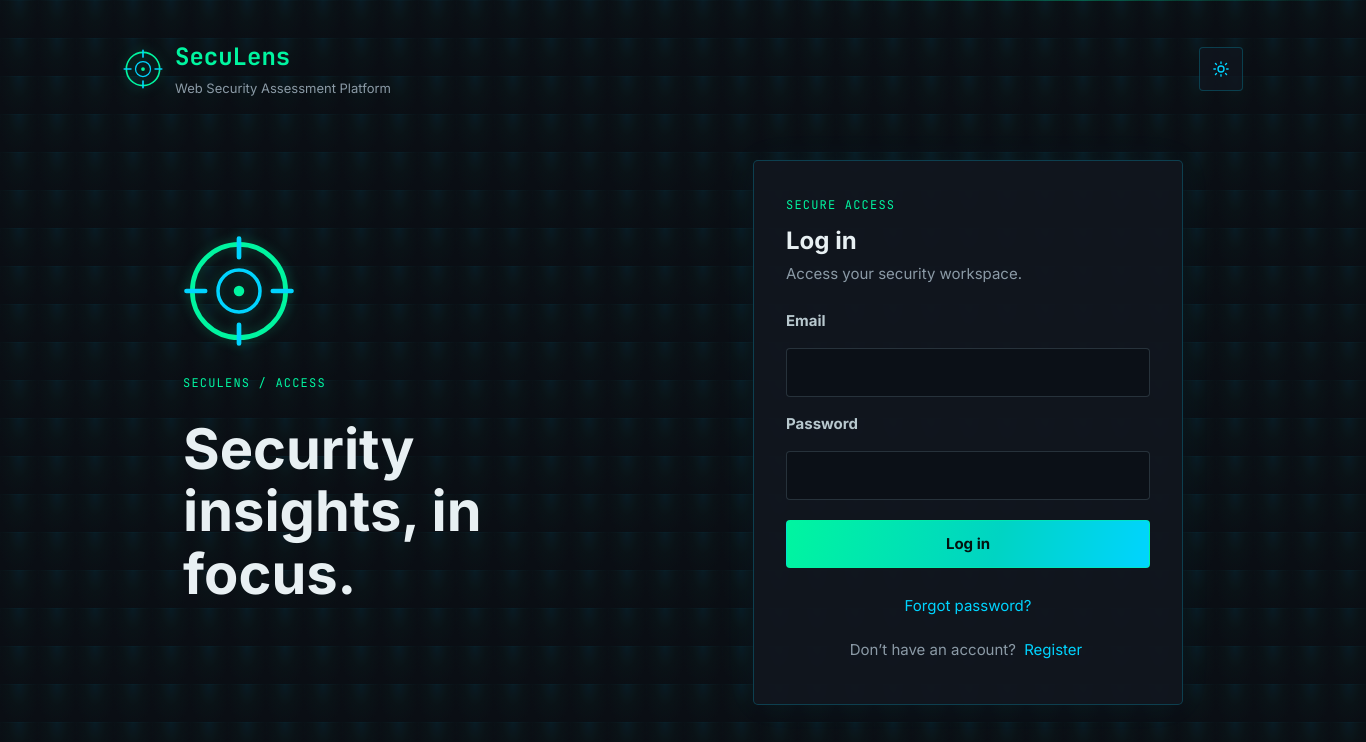
Test: switches to registration and validates the password length
Click the button "Register" at (1053, 650), box [1020,628,1086,672]
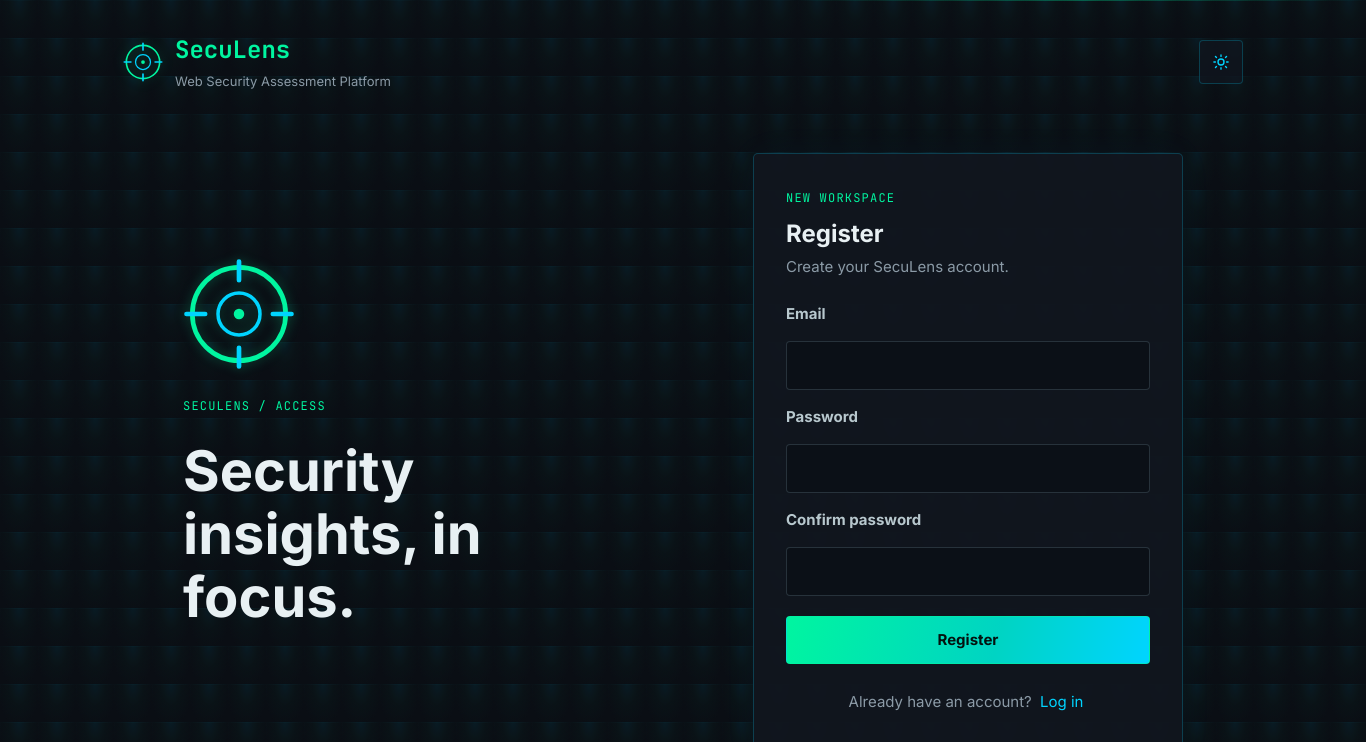
Type "new@example.com" into the field labelled "Email" at (968, 366), box [786,341,1150,390]
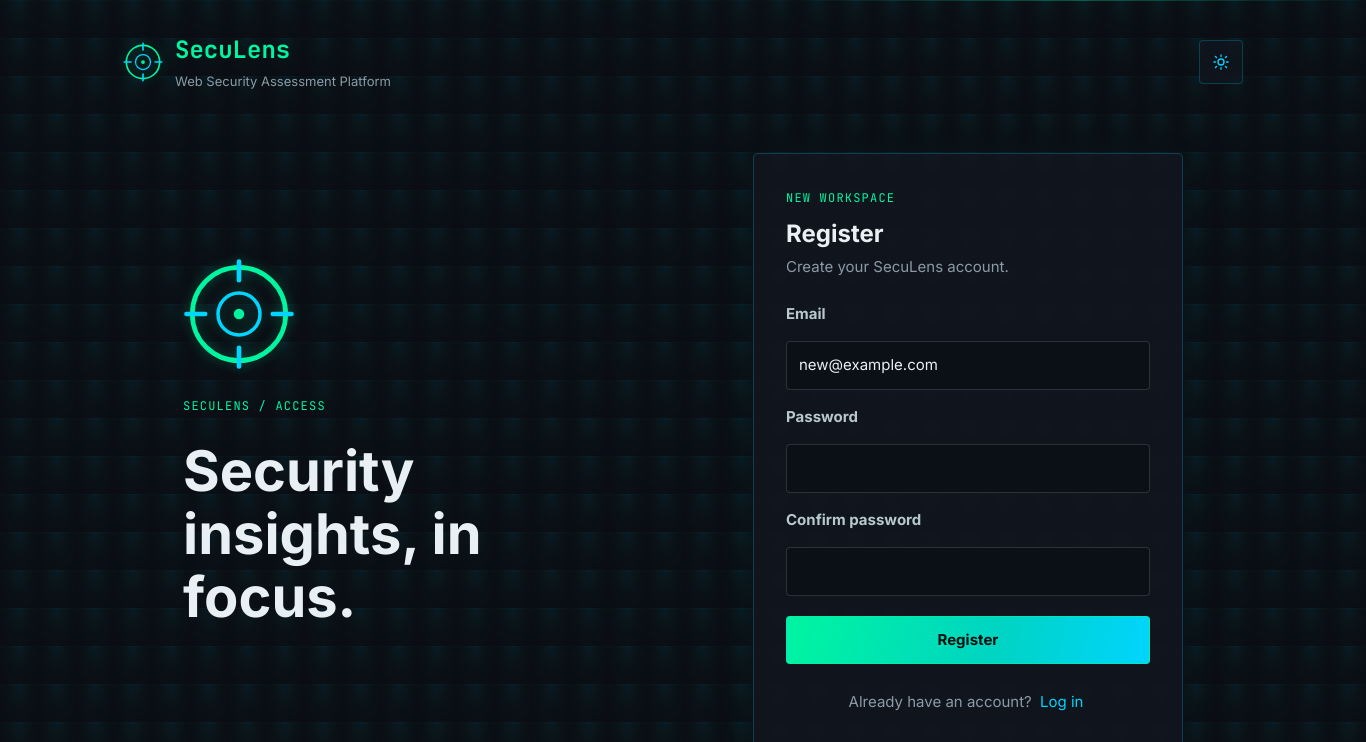
Type "short" into the password field labelled "Password" at (968, 469), box [786,444,1150,493]
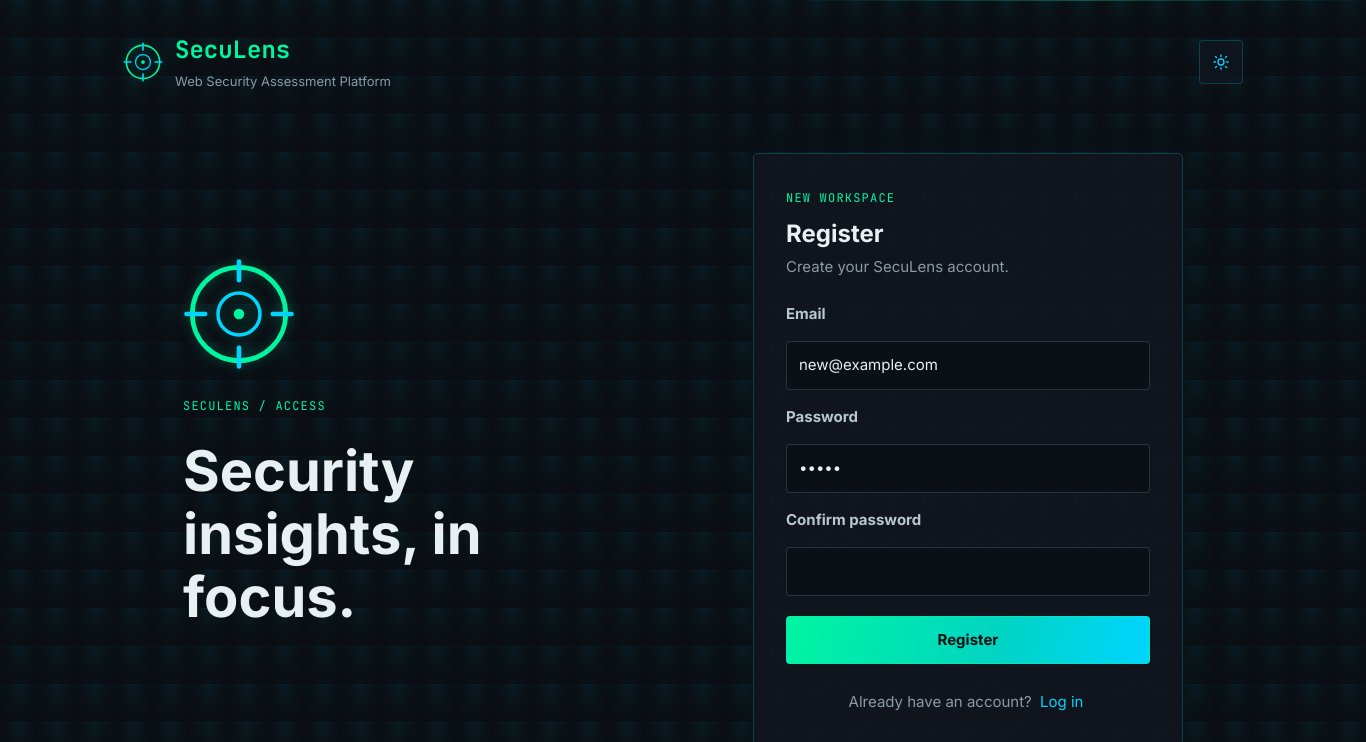
Type "short" into the password field labelled "Confirm password" at (968, 572), box [786,547,1150,596]
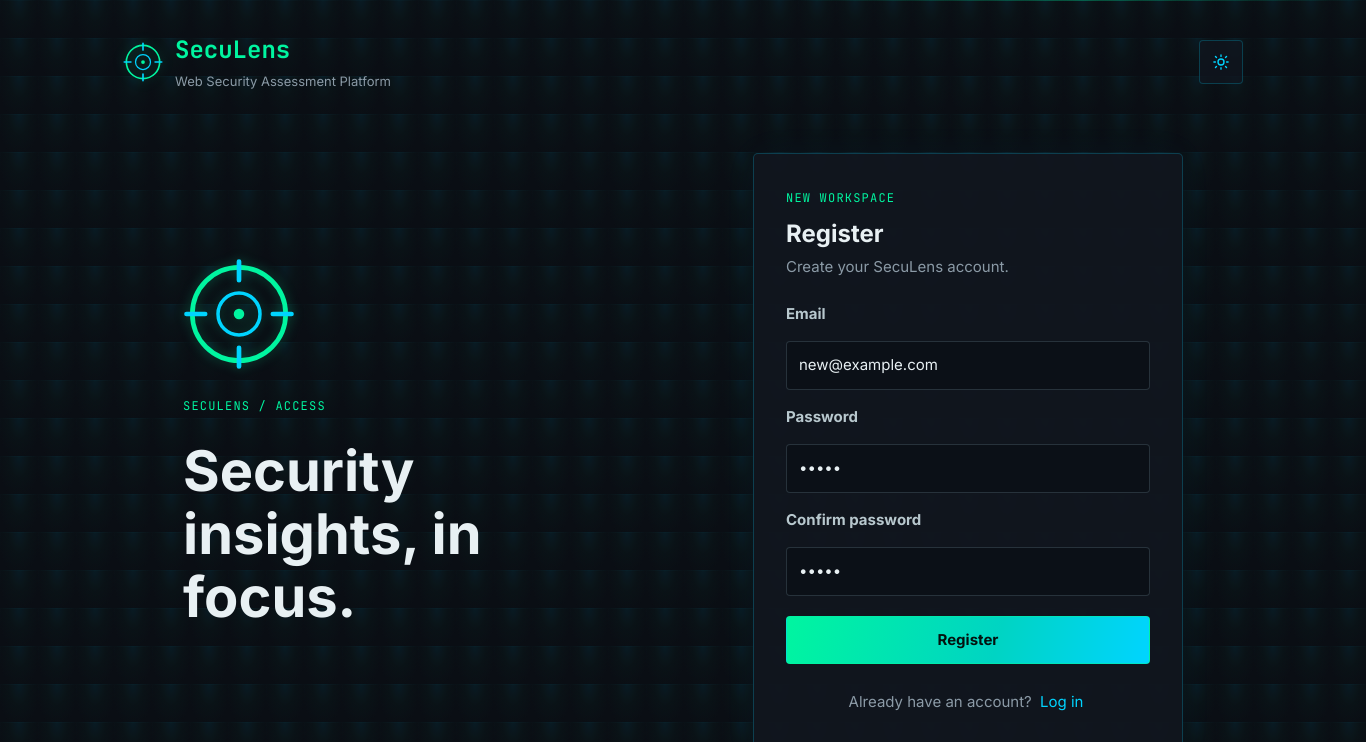
Click the button "Register" at (968, 640), box [786,616,1150,664]
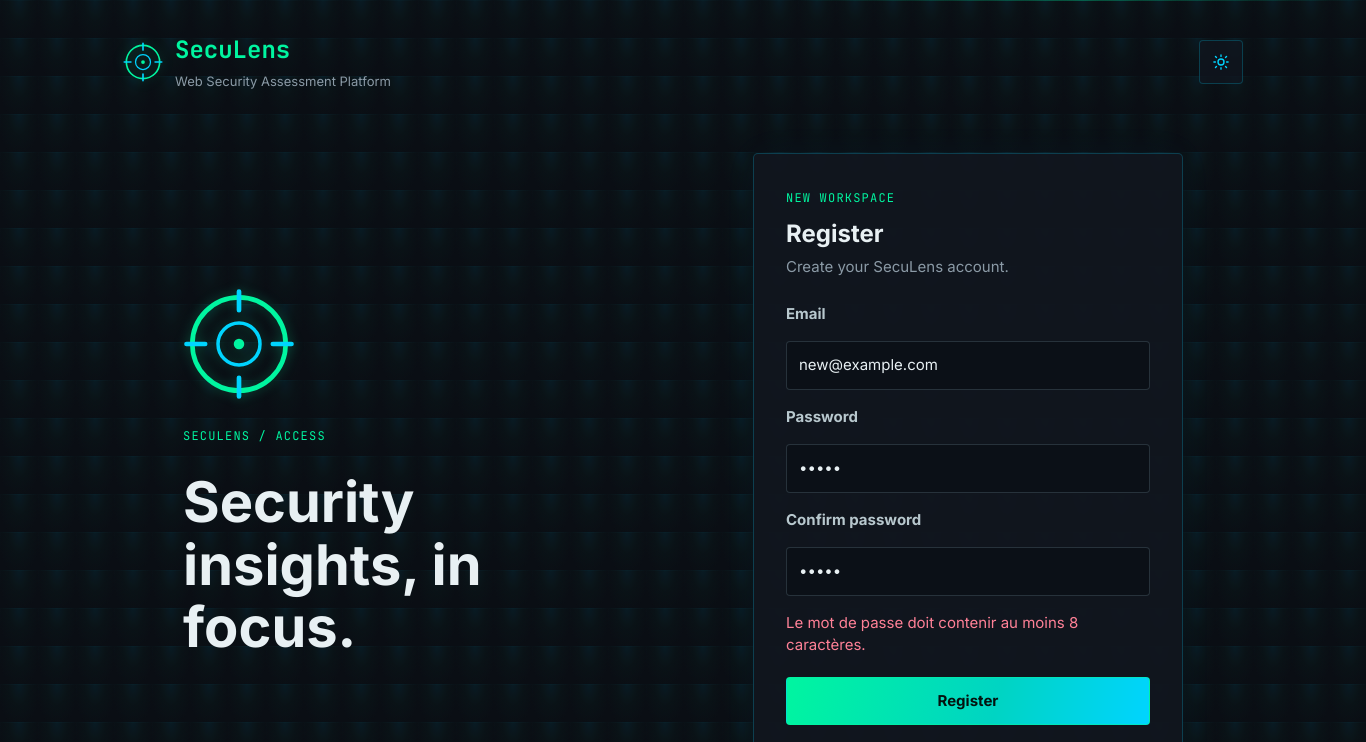
expect the message shows "au moins 8 caractères": met, box [786,613,1078,654]
